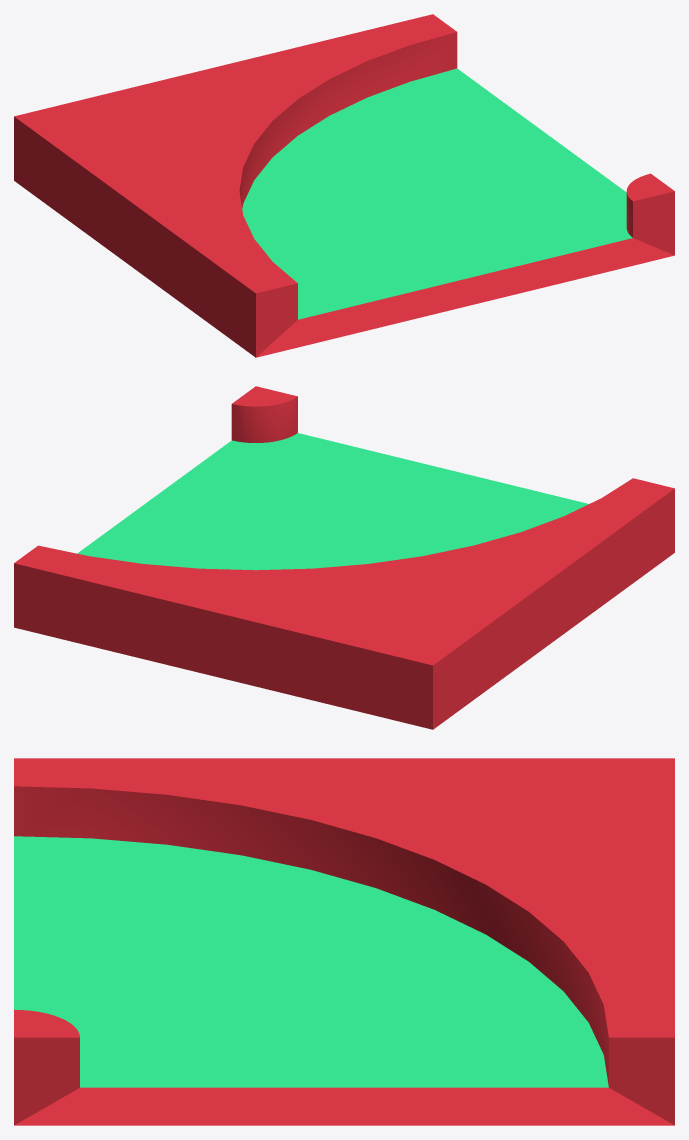
The model's file is roundCornerB.fbx.
The picture shows the model from 3 angles, top to bottom: view 1: azimuth 30°, elevation 25°; view 2: azimuth 150°, elevation 25°; view 3: azimuth 270°, elevation 25°; orthographic projection. The views are drawn at different scales.
Visible parts, largest first — view 1: roundCornerB; view 2: roundCornerB; view 3: roundCornerB.
Part boxes in pixels (<box>): roundCornerB: <box>14,14,674,357</box>; roundCornerB: <box>14,386,674,729</box>; roundCornerB: <box>14,758,674,1125</box>.
Bounding box in the file's own units: 99.99 × 99.99 × 14.67.
